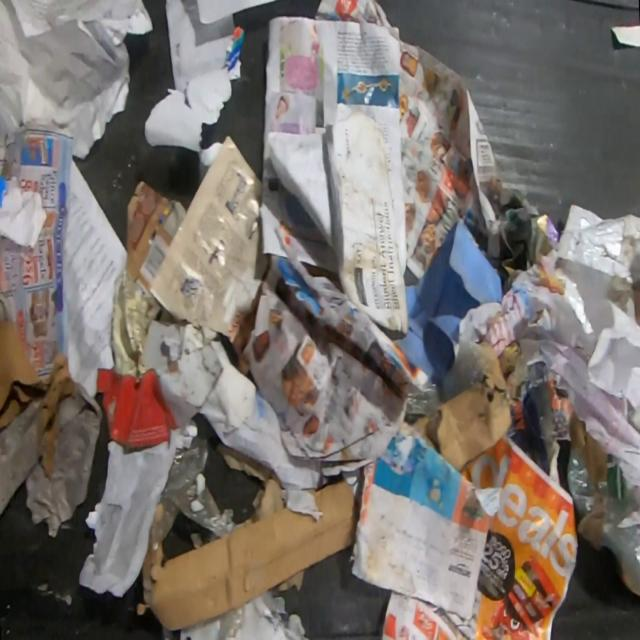cardboard: (135, 479, 360, 630), (400, 340, 512, 473), (0, 319, 74, 479), (96, 367, 180, 449)
soft_plastic: (566, 410, 640, 597)
